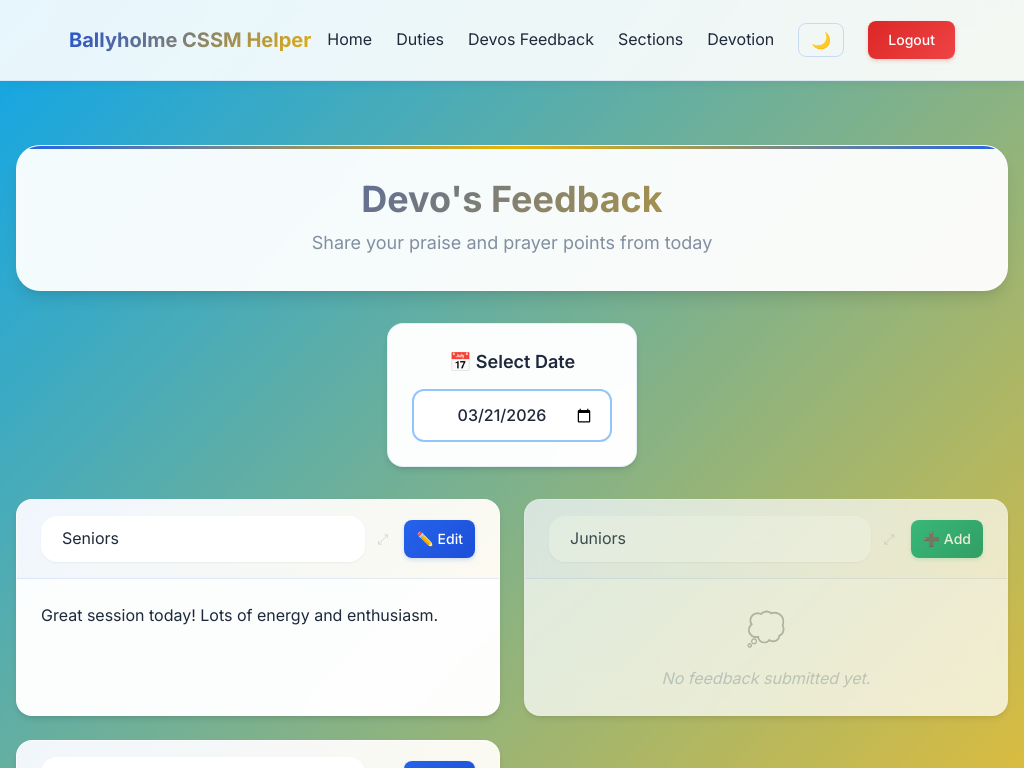
Test case: DevoFeedback › clicking a card body enters focus mode
Expected: the heading "Seniors" is shown, [41,516,365,562]
Click the button with aria-label "view seniors feedback in focus mode". click: (240, 615)
box: [41,605,438,625]
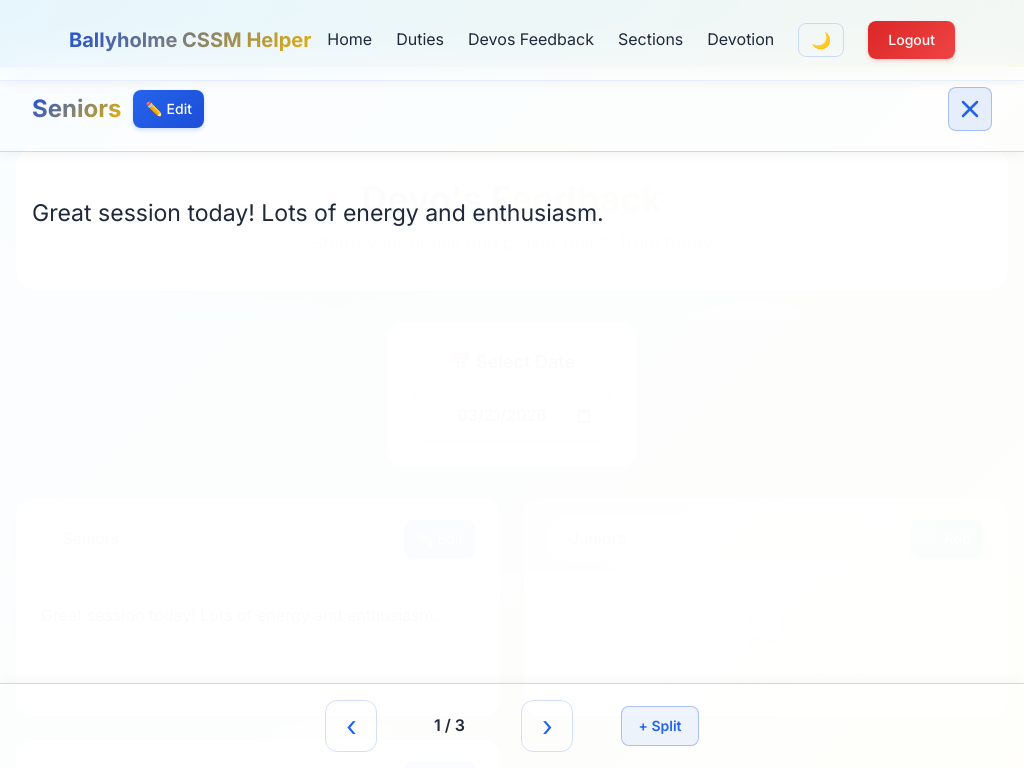
Expected: the dialog is shown
